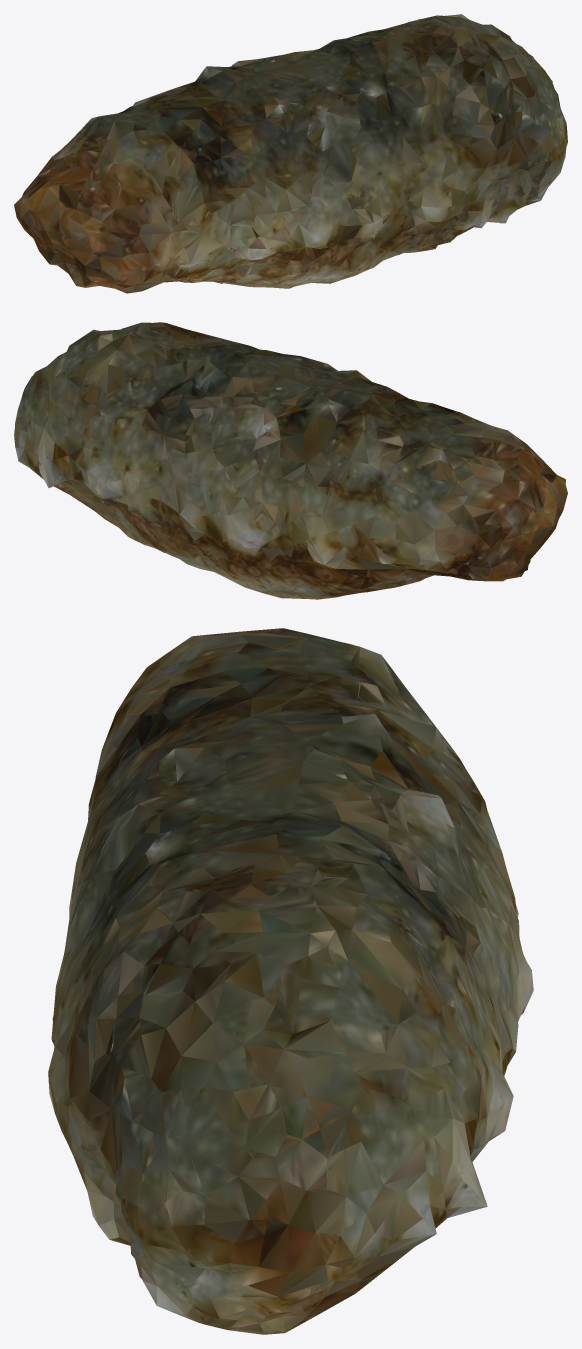
File: seacucumber.glb
3 renders of one model, top to bottom at view 1: azimuth 30°, elevation 25°; view 2: azimuth 150°, elevation 25°; view 3: azimuth 270°, elevation 25°, orthographic. The views are drawn at different scales.
Parts seen in each view (by area): view 1: body; view 2: body; view 3: body.
Part boxes in pixels (x1,y1,x2,y2): body: [14, 14, 567, 293]; body: [14, 322, 567, 599]; body: [48, 628, 533, 1334].
Bounding box in the file's own units: 1 × 0.407 × 0.398.
2 materials, 2 textured.
